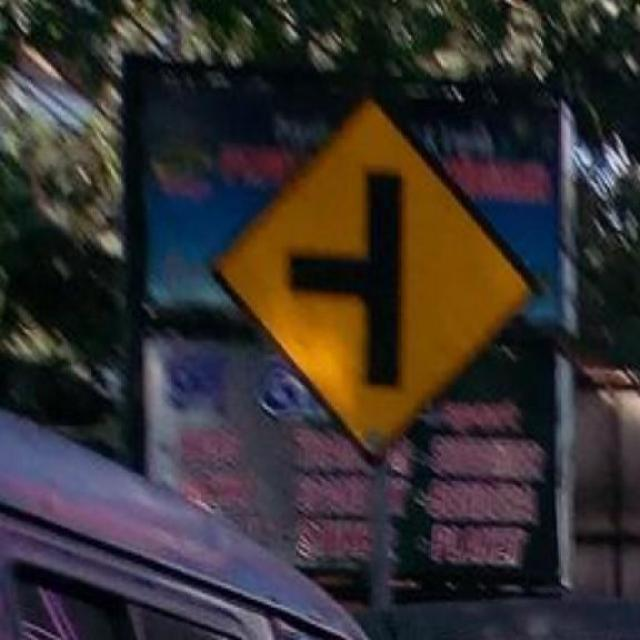traffic sign: (238, 107, 530, 440)
